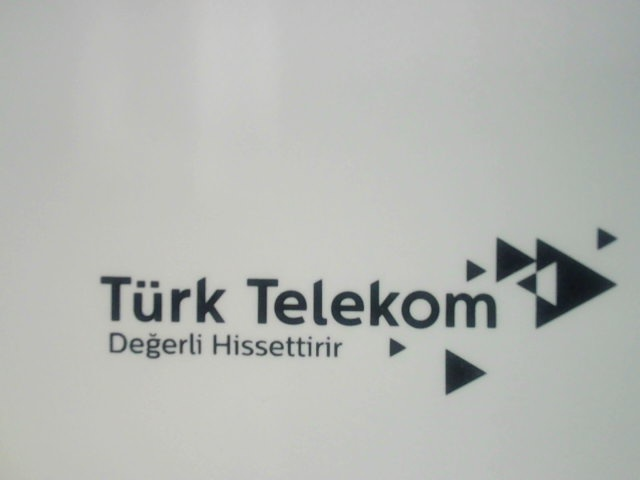AQ_TURKTelekom: (76, 223, 620, 396)
